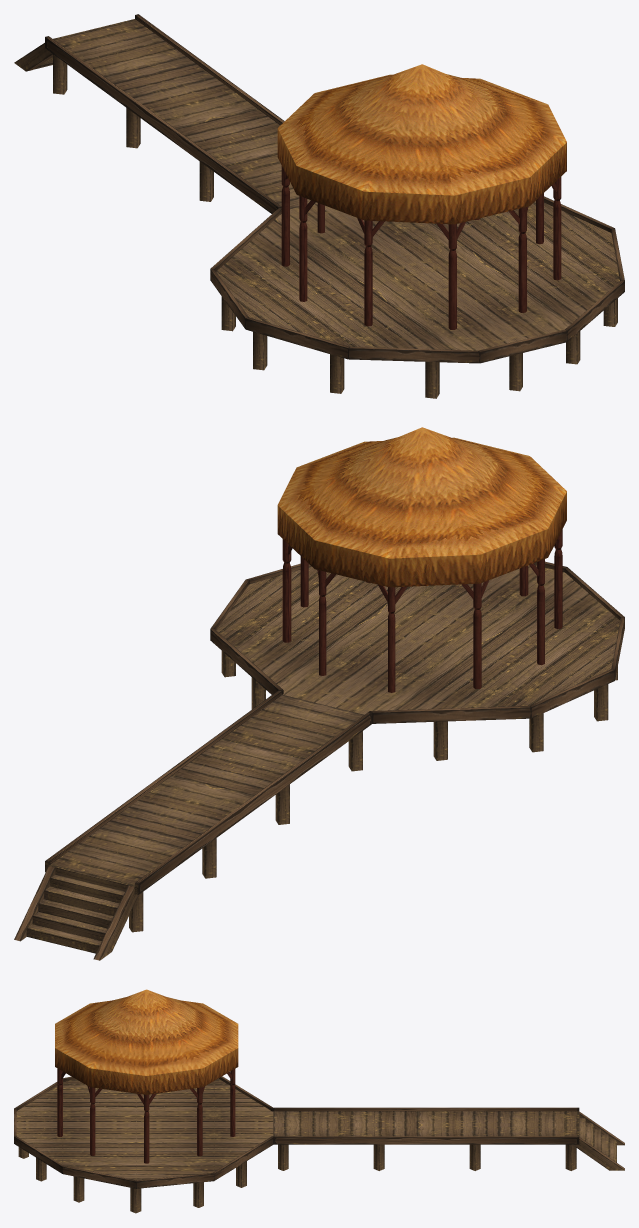
The model's file is ETC0610027.fbx.
3 views of the same model, one above another, from view 1: azimuth 30°, elevation 25°; view 2: azimuth 150°, elevation 25°; view 3: azimuth 270°, elevation 25° (orthographic). The views are drawn at different scales.
Visible parts, largest first — view 1: smETC0610027; view 2: smETC0610027; view 3: smETC0610027.
Part boxes in pixels (x1,y1,x2,y2): smETC0610027: (14, 14, 624, 398); smETC0610027: (14, 427, 624, 960); smETC0610027: (14, 989, 624, 1213).
Bounding box in the file's own units: 973 × 643 × 2128.
Materials: 1 (1 with a texture image).
